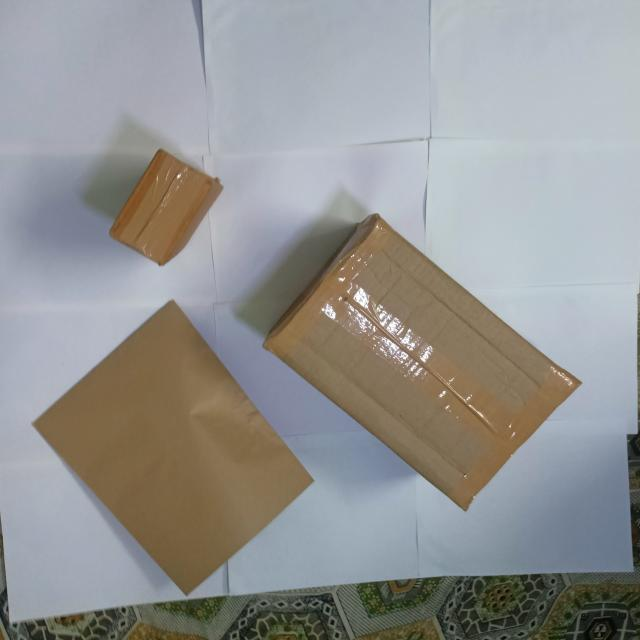box: (263, 216, 582, 513), (33, 303, 315, 600), (109, 152, 225, 269)
